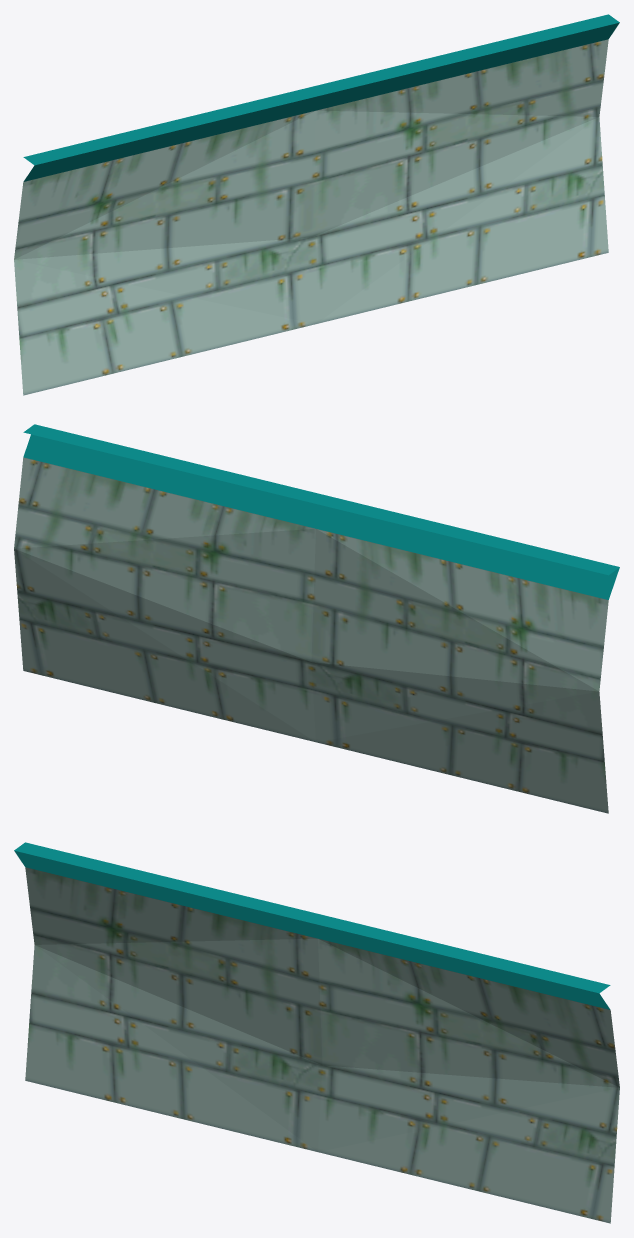
The model's file is W_A3_xxxx [Türkis]_1663.glb.
3 views of the same model, one above another, from view 1: azimuth 30°, elevation 25°; view 2: azimuth 150°, elevation 25°; view 3: azimuth 330°, elevation 25° (orthographic).
Visible parts, largest first — view 1: polySurfaceShape787, polySurfaceShape1065; view 2: polySurfaceShape787, polySurfaceShape1065; view 3: polySurfaceShape787, polySurfaceShape1065.
Part boxes in pixels (<box>): polySurfaceShape787: <box>14,39,608,395</box>; polySurfaceShape1065: <box>23,14,619,181</box>; polySurfaceShape787: <box>14,457,608,813</box>; polySurfaceShape1065: <box>23,424,619,599</box>; polySurfaceShape787: <box>25,867,619,1223</box>; polySurfaceShape1065: <box>14,842,610,1009</box>.
Size of the model in its own units: 1 by 0.3891 by 0.0607.
Materials: 2 (1 with a texture image).
